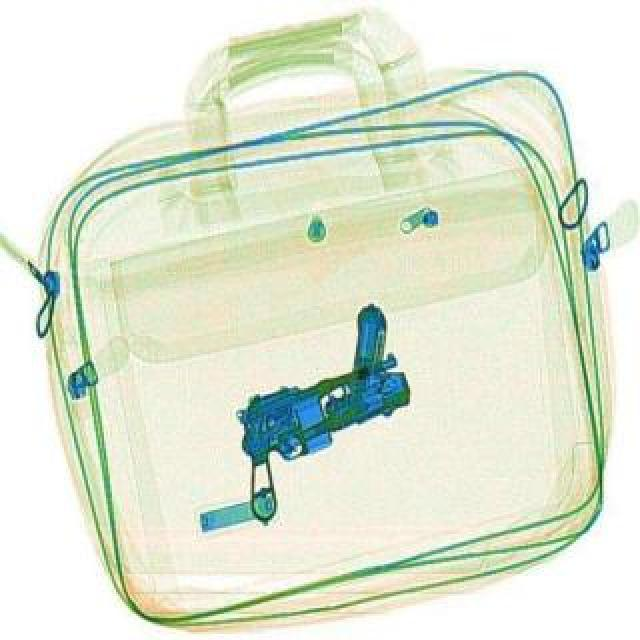gun: (210, 346, 438, 522), (230, 300, 424, 456)
